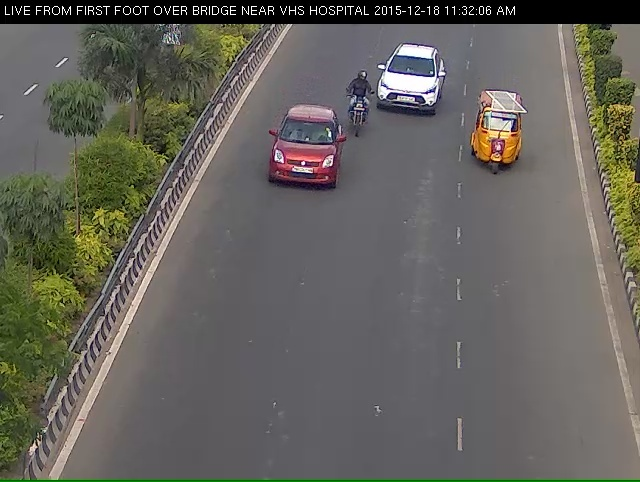Car: (257, 115, 344, 220), (462, 87, 539, 192), (368, 49, 447, 123)
Person: (338, 82, 377, 151)
